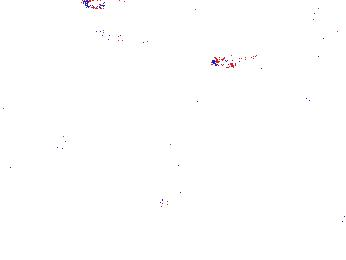X-ray fish: (53, 131, 100, 170), (304, 4, 327, 39)
glassfish: (155, 136, 190, 204), (113, 196, 170, 228)
red belly glassfish: (209, 53, 258, 70)
redtail glassfish: (94, 25, 155, 51), (182, 1, 248, 20)
